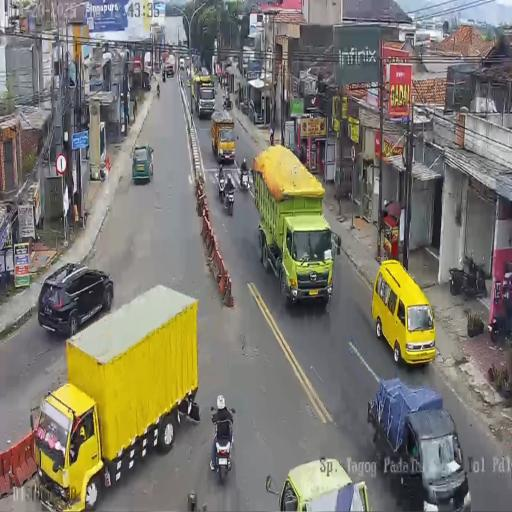3: (29, 290, 202, 512), (246, 140, 324, 304), (210, 112, 236, 162), (192, 68, 216, 119), (163, 52, 175, 78)
car: (372, 257, 437, 364), (36, 262, 114, 336), (131, 144, 154, 184), (144, 51, 153, 79), (179, 55, 187, 73)
truck: (210, 408, 235, 478), (224, 179, 234, 216), (218, 164, 226, 198), (222, 92, 232, 110)
